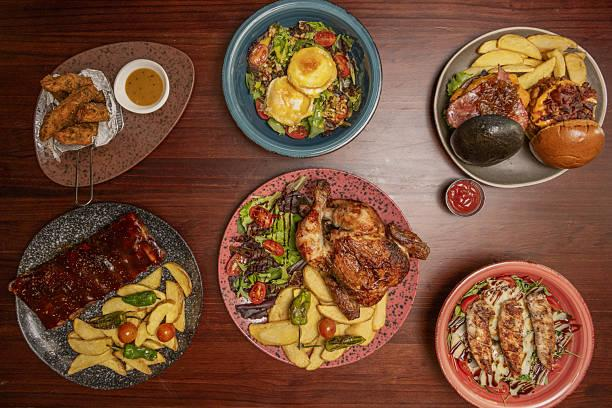Braised Crucian Carp: (218, 168, 417, 370), (12, 200, 200, 389), (431, 25, 603, 188), (222, 1, 381, 159), (433, 261, 593, 408), (36, 41, 193, 186)
